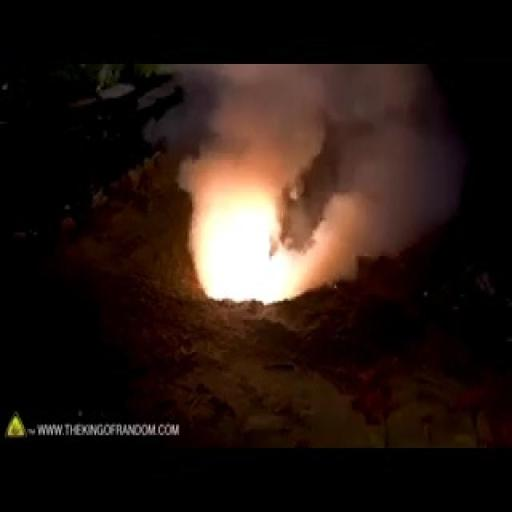smoke: (202, 171, 332, 322)
